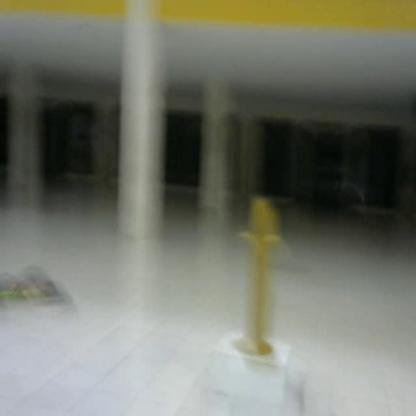pole: (231, 196, 287, 360)
